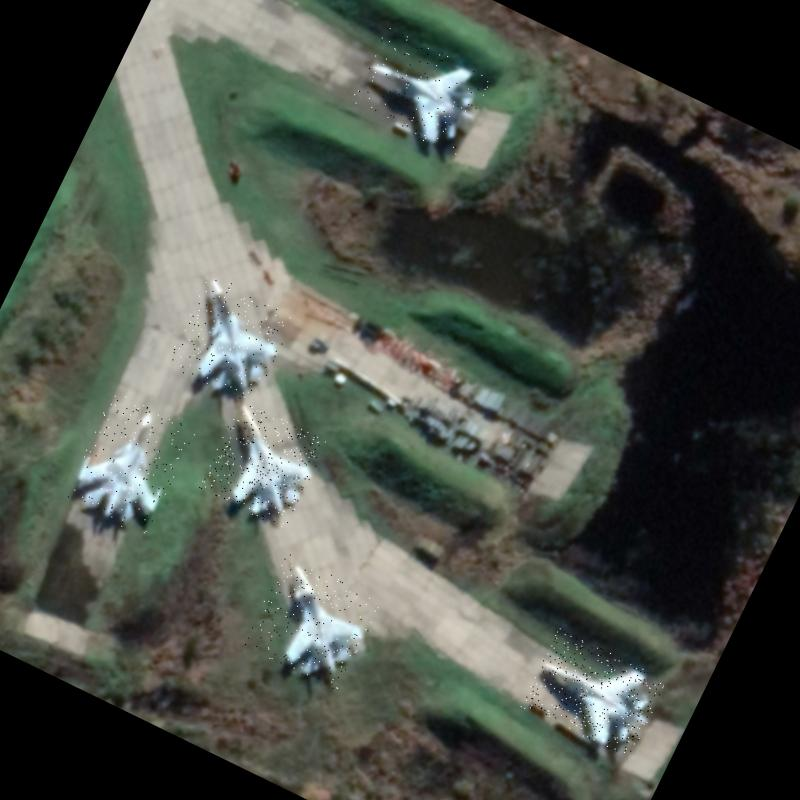A1: (242, 553, 382, 692), (520, 628, 667, 760), (349, 26, 492, 156), (196, 398, 328, 530)
A19: (61, 390, 196, 538), (165, 272, 296, 407)
